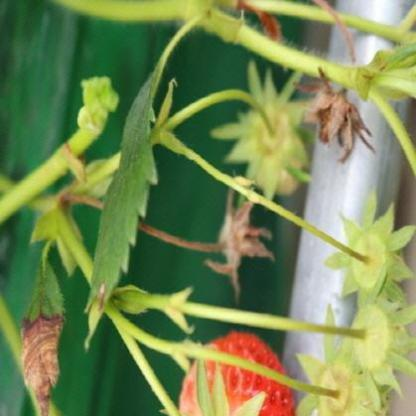Strawberry_Gray_Mold: (196, 188, 274, 301), (292, 66, 378, 164)
